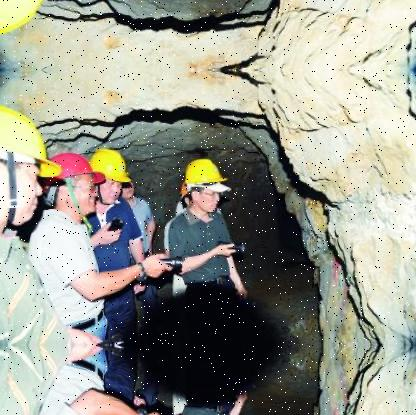helmet: (3, 102, 51, 233), (47, 152, 103, 208), (182, 155, 229, 214), (93, 145, 132, 202), (2, 0, 51, 37)
